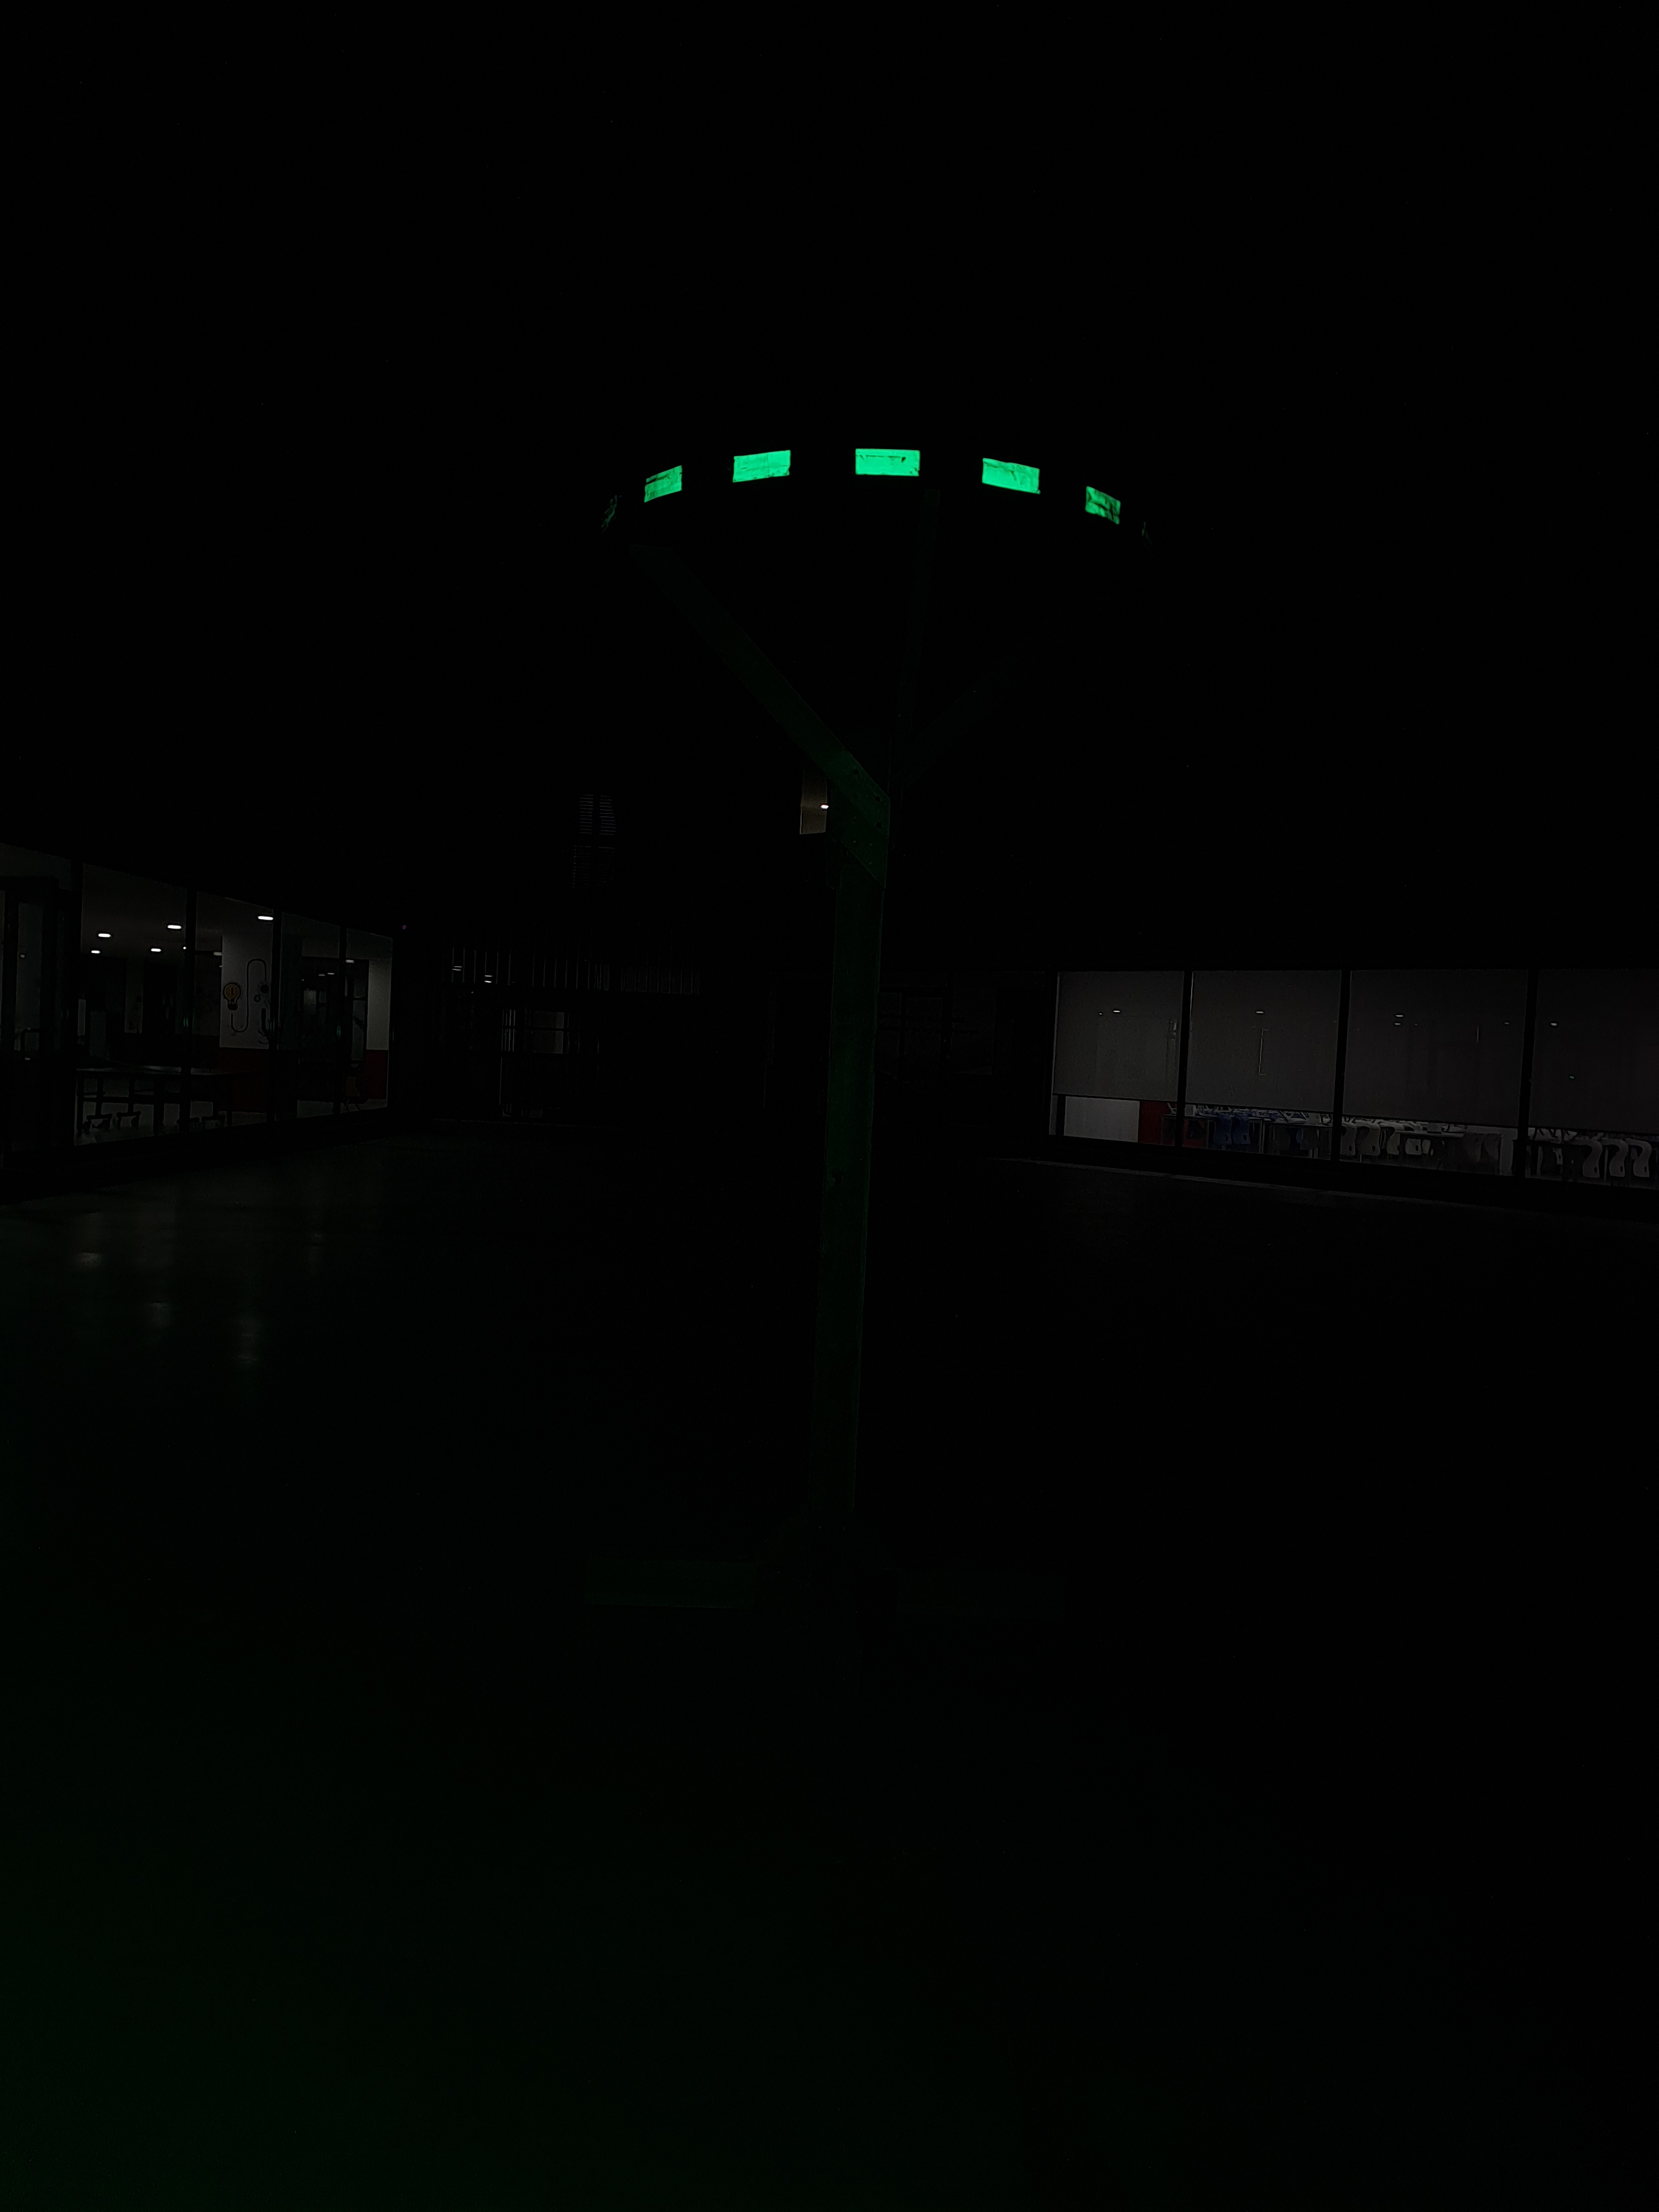hoop: (641, 425, 1127, 547)
